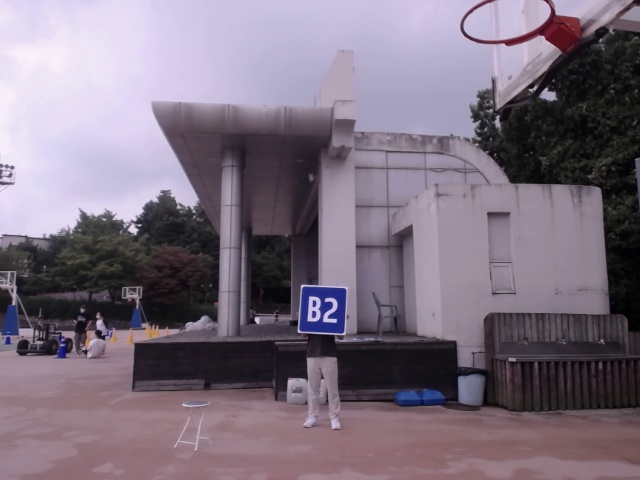delivery_b2: (299, 284, 346, 334)
